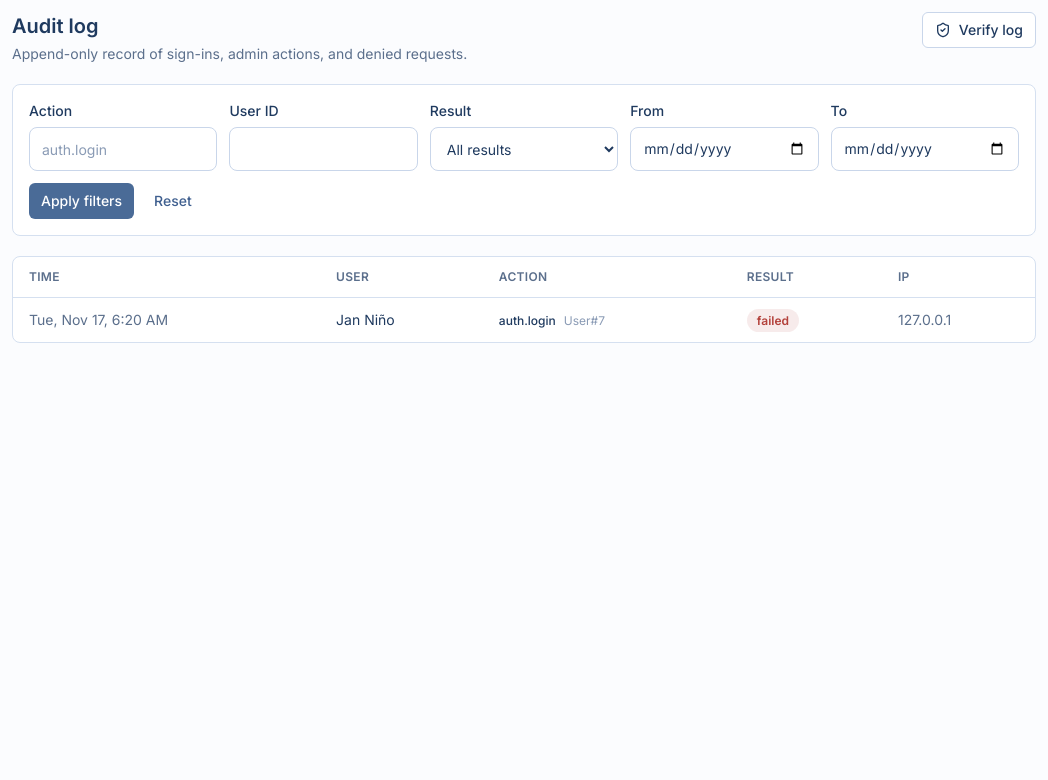
Test: Audit log page › renders entries and verifies the hash chain
Expected: the text "auth.login" is shown, top-left (499, 313), bottom-right (556, 328)
Expected: the text "Jan Niño" is shown, top-left (320, 298), bottom-right (483, 342)
Click the button "Verify log": (979, 30) top-left (922, 12), bottom-right (1036, 48)
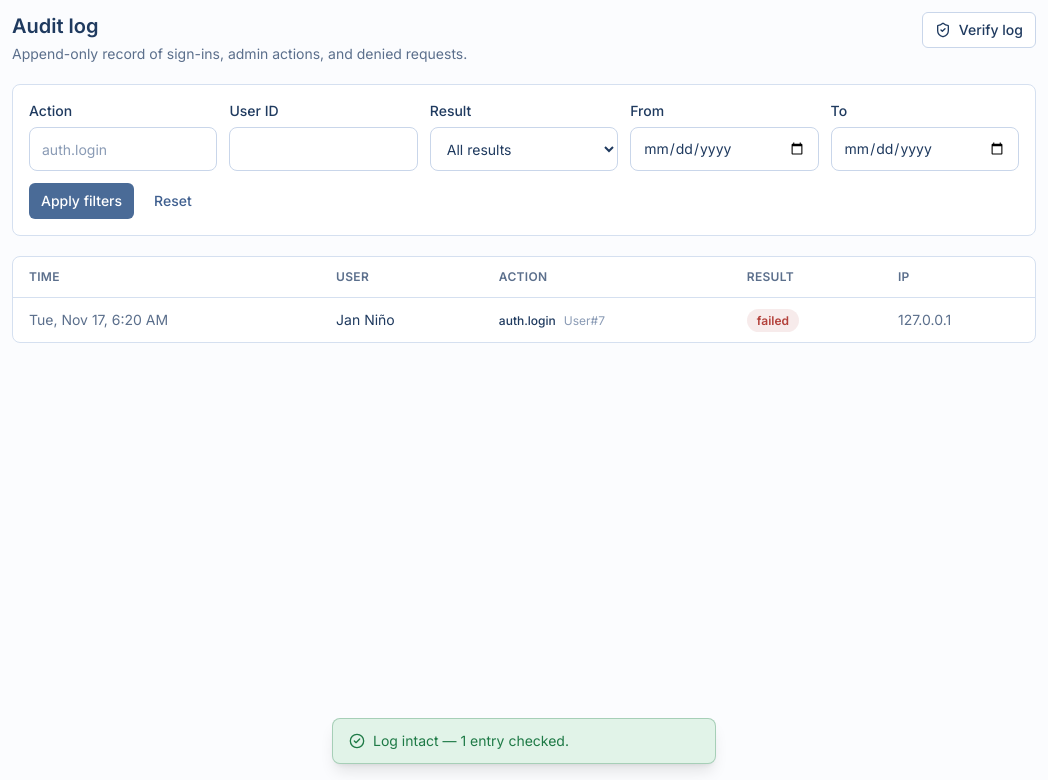
Expected: the text "Log intact — 1 entry checked." is shown, top-left (373, 731), bottom-right (569, 751)
